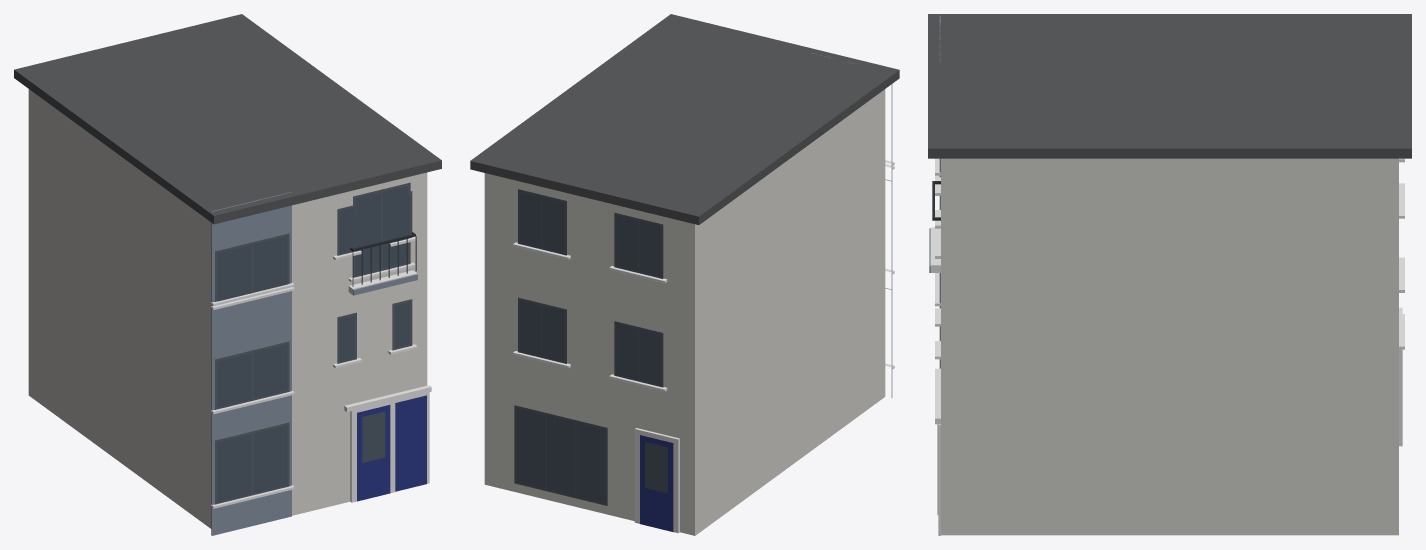
The model's file is nd-bb-row__pale__3__flat__long__solid__mirror.glb.
3 renders of one model, left to right at view 1: azimuth 30°, elevation 25°; view 2: azimuth 150°, elevation 25°; view 3: azimuth 270°, elevation 25°, orthographic. The views are drawn at different scales.
Parts seen in each view (by area): view 1: nd-bb-row__pale__3__flat__long__solid__mirror; view 2: nd-bb-row__pale__3__flat__long__solid__mirror; view 3: nd-bb-row__pale__3__flat__long__solid__mirror.
Part boxes in pixels (<box>): nd-bb-row__pale__3__flat__long__solid__mirror: <box>14,14,441,535</box>; nd-bb-row__pale__3__flat__long__solid__mirror: <box>470,14,899,535</box>; nd-bb-row__pale__3__flat__long__solid__mirror: <box>928,14,1411,535</box>.
Bounding box in the file's own units: 6.18 × 8.4 × 9.39.
